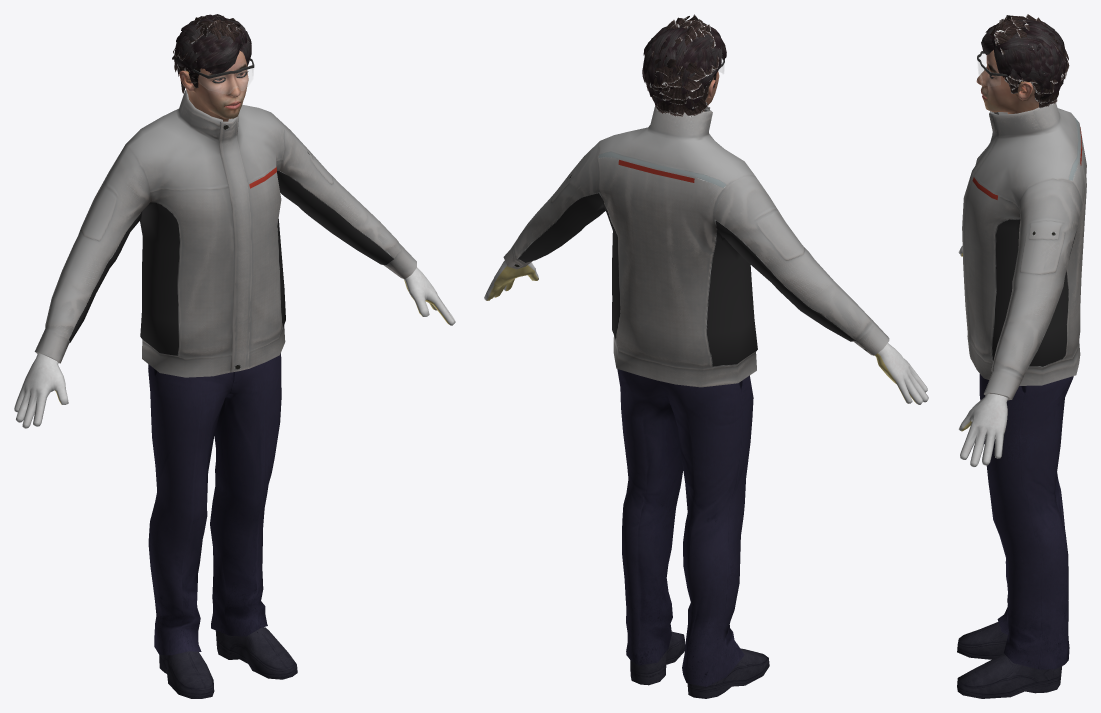
Rendered from renwu5.3.FBX.
3 views of the same model, side by side, from view 1: azimuth 30°, elevation 25°; view 2: azimuth 150°, elevation 25°; view 3: azimuth 270°, elevation 25° (orthographic).
Parts seen in each view (by area): view 1: YF_Model_yifu, YF_Model_kuzi, YF_Model_xiezi, YF_Model_shoutao, YF_Model_tou, YF_Model_toufa3, YF_Model_toufa, YF_Model_yanjing, YF_Model_toufa2; view 2: YF_Model_yifu, YF_Model_kuzi, YF_Model_toufa, YF_Model_xiezi, YF_Model_shoutao, YF_Model_toufa2, YF_Model_toufa3; view 3: YF_Model_yifu, YF_Model_kuzi, YF_Model_xiezi, YF_Model_shoutao, YF_Model_toufa3, YF_Model_toufa2, YF_Model_tou, YF_Model_toufa, YF_Model_yanjing.
Boxes of the visible parts, box(x1,y1,x2,y2) form: YF_Model_yifu: box(34, 90, 416, 377); YF_Model_kuzi: box(148, 353, 281, 655); YF_Model_xiezi: box(159, 627, 297, 698); YF_Model_shoutao: box(14, 267, 455, 428); YF_Model_tou: box(179, 50, 248, 121); YF_Model_toufa3: box(174, 21, 251, 76); YF_Model_toufa: box(172, 15, 248, 93); YF_Model_yanjing: box(178, 58, 254, 93); YF_Model_toufa2: box(174, 14, 247, 73); YF_Model_yifu: box(503, 106, 889, 387); YF_Model_kuzi: box(617, 369, 753, 686); YF_Model_toufa: box(644, 14, 719, 117); YF_Model_xiezi: box(630, 631, 769, 698); YF_Model_shoutao: box(484, 260, 928, 404); YF_Model_toufa2: box(642, 25, 718, 108); YF_Model_toufa3: box(643, 22, 726, 110); YF_Model_yifu: box(962, 103, 1086, 400); YF_Model_kuzi: box(979, 374, 1073, 669); YF_Model_xiezi: box(957, 622, 1062, 698); YF_Model_shoutao: box(958, 246, 1007, 466); YF_Model_toufa3: box(981, 23, 1063, 103); YF_Model_toufa2: box(992, 19, 1067, 97); YF_Model_tou: box(976, 50, 1038, 114); YF_Model_toufa: box(990, 14, 1069, 108); YF_Model_yanjing: box(977, 51, 1011, 86).
Bounding box in the file's own units: 126 × 181 × 32.45.
